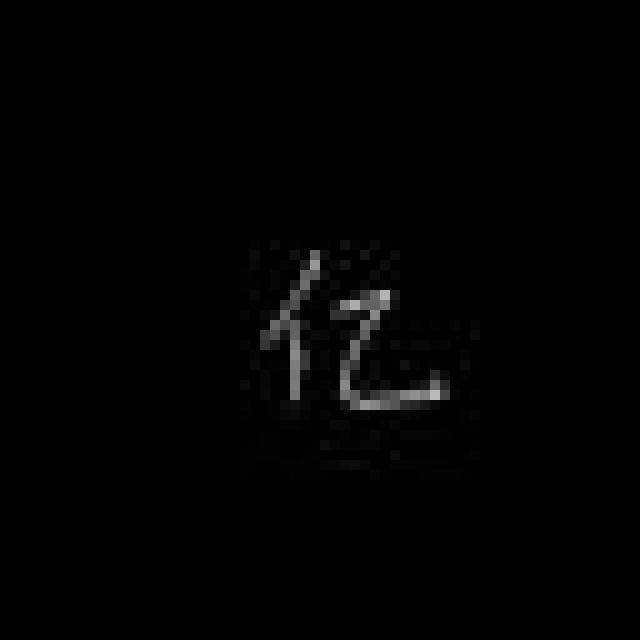100000 -a hundred thousand-: (247, 237, 458, 429)
